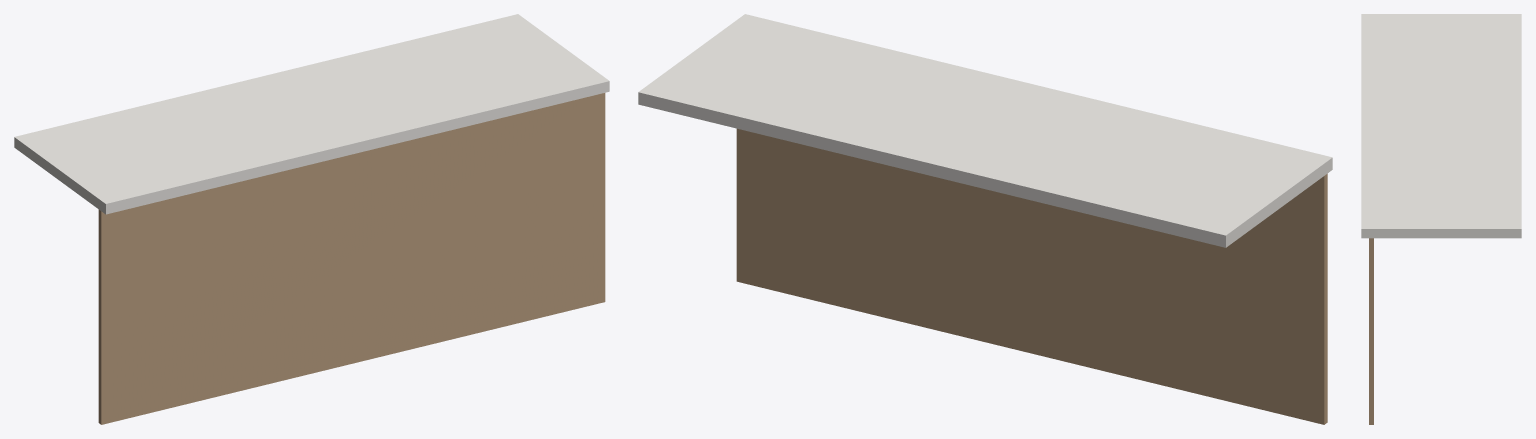
File: counter_straight.glb
3 renders of one model, left to right at view 1: azimuth 30°, elevation 25°; view 2: azimuth 150°, elevation 25°; view 3: azimuth 270°, elevation 25°, orthographic. The views are drawn at different scales.
Visible parts, largest first — view 1: FrontPanel, CounterTop; view 2: FrontPanel, CounterTop; view 3: CounterTop, FrontPanel.
Part boxes in pixels (box(x1,y1,x2,y2)): FrontPanel: box(98, 93, 605, 424); CounterTop: box(14, 14, 609, 214); FrontPanel: box(736, 128, 1327, 424); CounterTop: box(638, 14, 1332, 247); CounterTop: box(1361, 14, 1521, 238); FrontPanel: box(1369, 238, 1373, 424).
Size of the model in its own units: 2 by 0.85 by 0.63.
